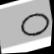no answer: (17, 8, 53, 41)
